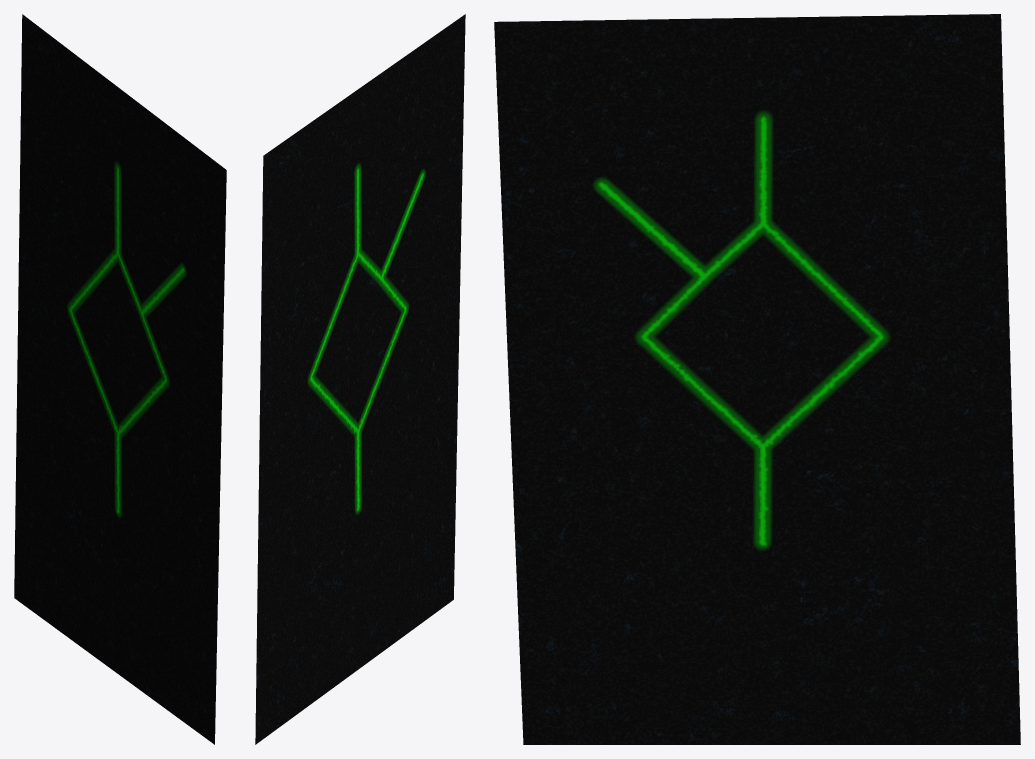
Rendered from Puzel5.glb.
The picture shows the model from 3 angles, left to right: view 1: azimuth 30°, elevation 25°; view 2: azimuth 150°, elevation 25°; view 3: azimuth 270°, elevation 25°; orthographic projection. The views are drawn at different scales.
Parts seen in each view (by area): view 1: puzel5; view 2: puzel5; view 3: puzel5.
Part boxes in pixels (<box>): puzel5: <box>14,14,226,744</box>; puzel5: <box>255,14,465,744</box>; puzel5: <box>494,14,1020,744</box>.
Size of the model in its own units: 1.34e-07 by 1.58 by 1.03.
1 material, 1 textured.
